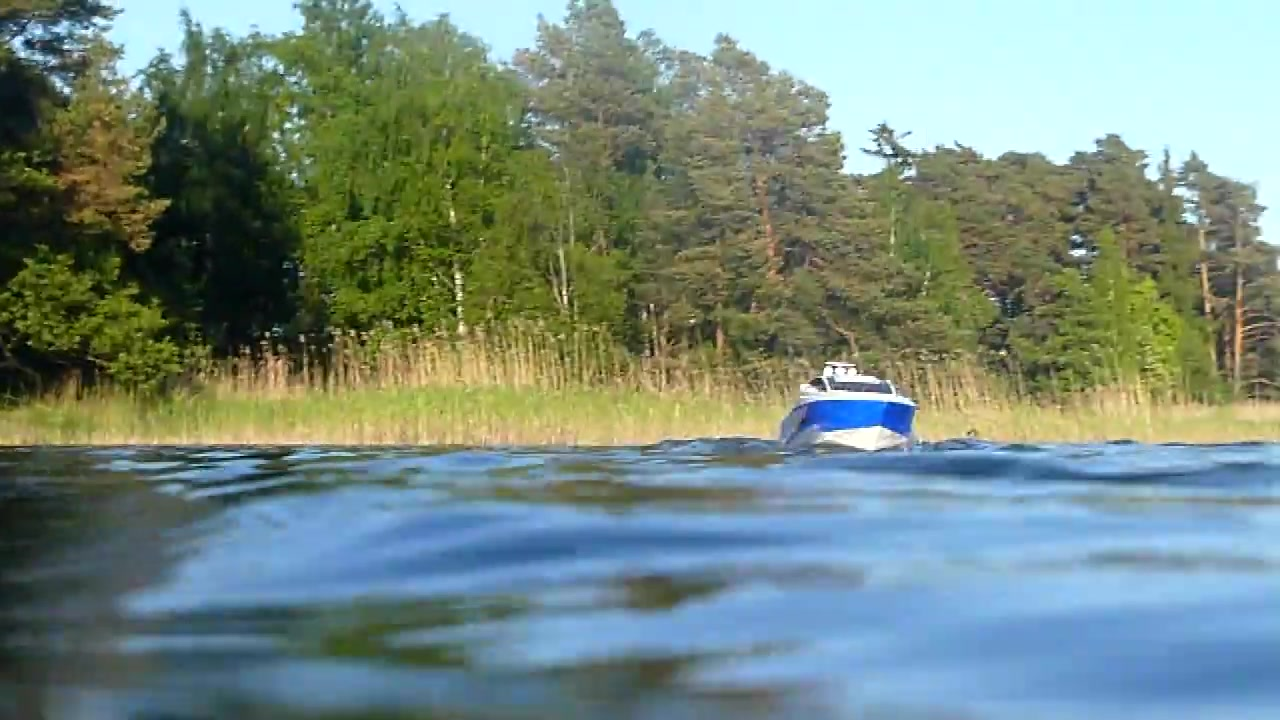boat: (781, 358, 919, 456)
